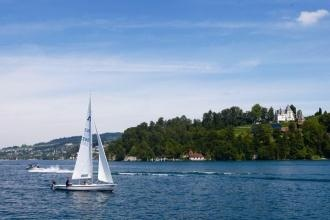fanchuan: (44, 95, 121, 194)
otherboat: (25, 159, 63, 172)
